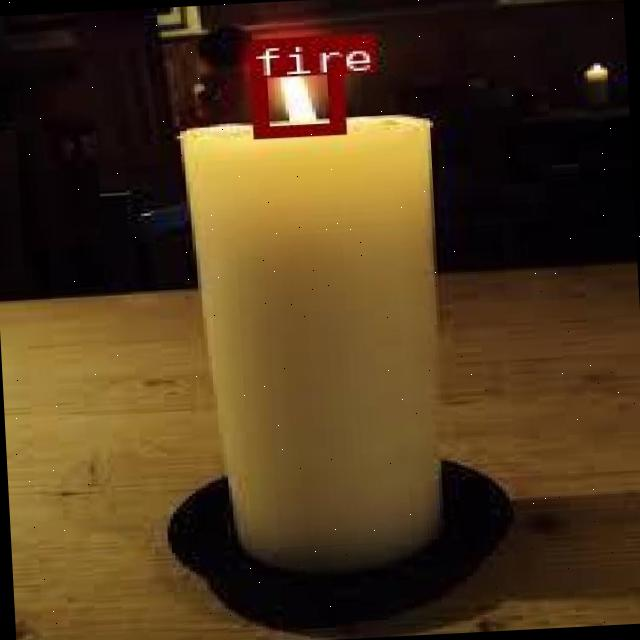fire: (246, 34, 341, 136)
